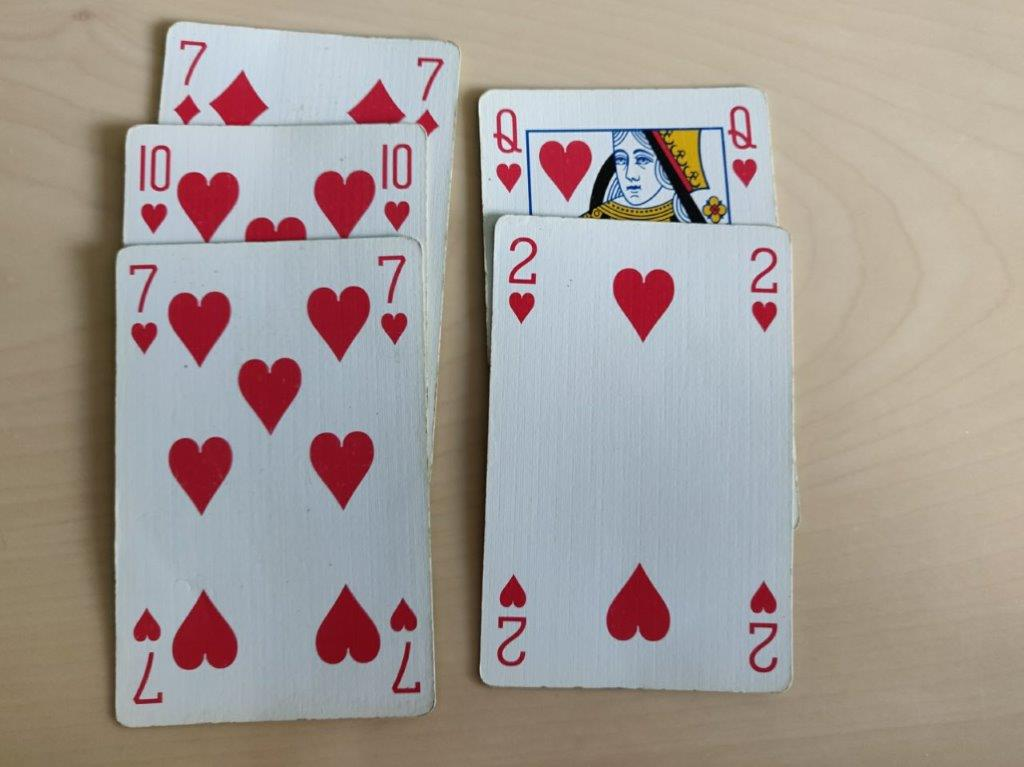10H: (135, 137, 176, 236), (377, 137, 418, 236)
2H: (500, 231, 542, 327), (741, 239, 783, 335)
7D: (167, 35, 211, 129)
7H: (373, 245, 413, 353), (124, 255, 160, 358)
QH: (725, 100, 763, 191), (489, 105, 523, 195)
